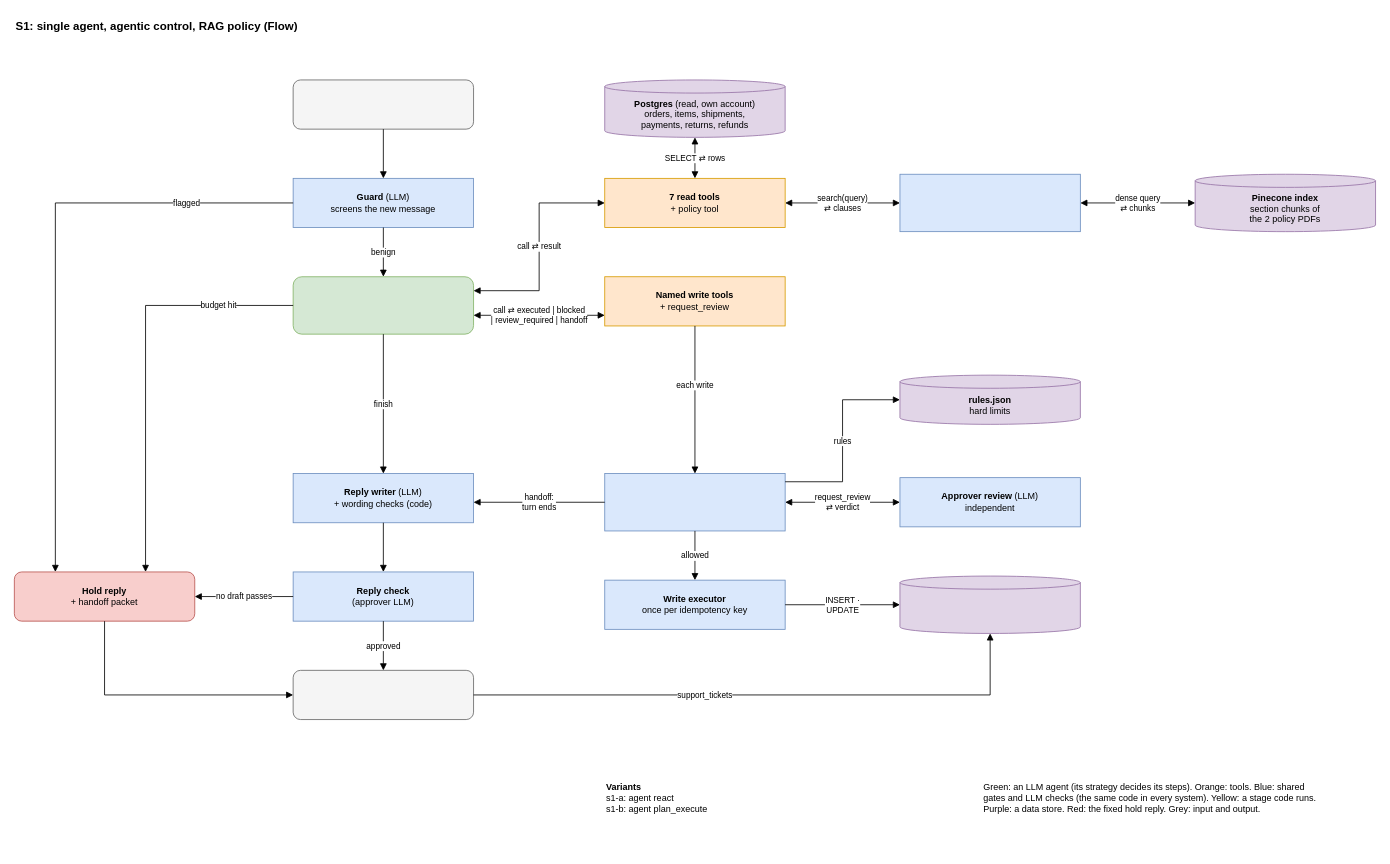
This 1390x864 diagram has some shape labels left out. The box of each missing label's shape, as (x1, y1, x2, y2) in pixels:
Agent (react | plan_execute) reads, policy, named writes, request_review, finish: (292, 276, 474, 334)
Customer message + history (untrusted): (292, 79, 474, 129)
Hybrid retriever (code) Nomic dense + BM25 → RRF → bge rerank → top 4 + refs: (899, 173, 1080, 232)
Postgres (write) returns, refunds, cancels, backend_writes, support_tickets: (899, 575, 1080, 633)
Ticket save (code) support_tickets: (292, 670, 474, 720)
Write gate replay → rules → citations → unseen returns → route: (604, 473, 785, 531)
